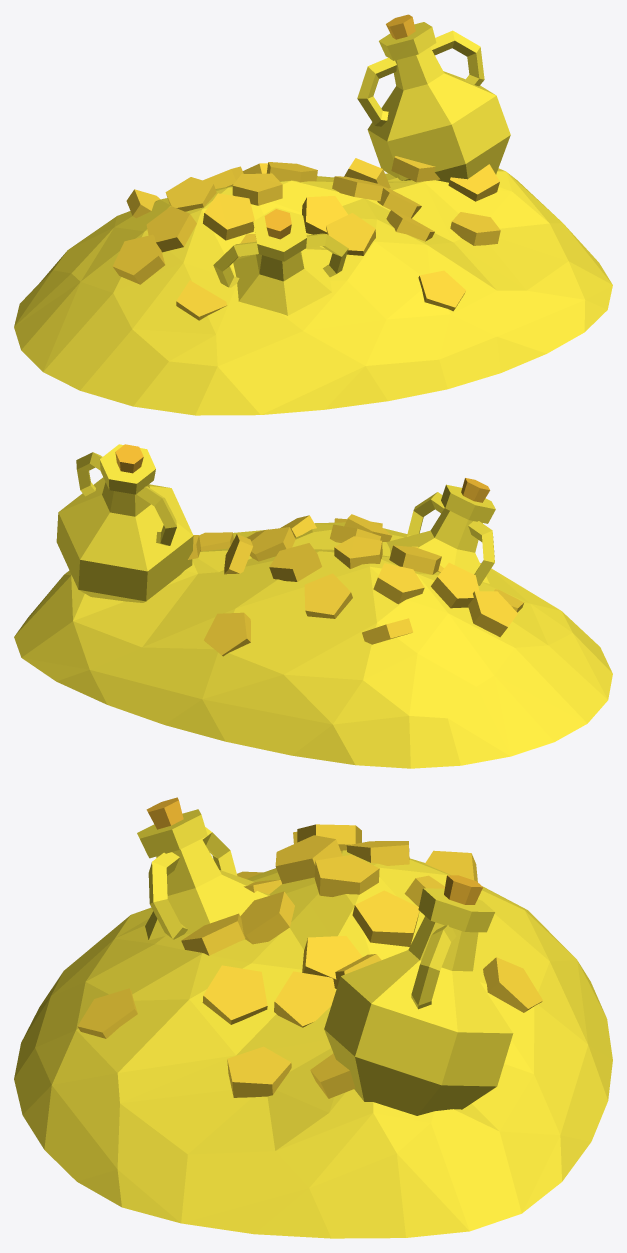
Rendered from gold.glb.
The picture shows the model from 3 angles, top to bottom: view 1: azimuth 30°, elevation 25°; view 2: azimuth 150°, elevation 25°; view 3: azimuth 270°, elevation 25°; orthographic projection. The views are drawn at different scales.
Visible parts, largest first — view 1: Ship_030; view 2: Ship_030; view 3: Ship_030.
Part boxes in pixels (left/top/right/bottom): Ship_030: left=14, top=14, right=612, bottom=415; Ship_030: left=14, top=444, right=612, bottom=768; Ship_030: left=14, top=797, right=612, bottom=1238.
Size of what is drawn, in the model's own units: 1.09 by 0.4225 by 0.8093.
Materials: 1 (1 with a texture image).
